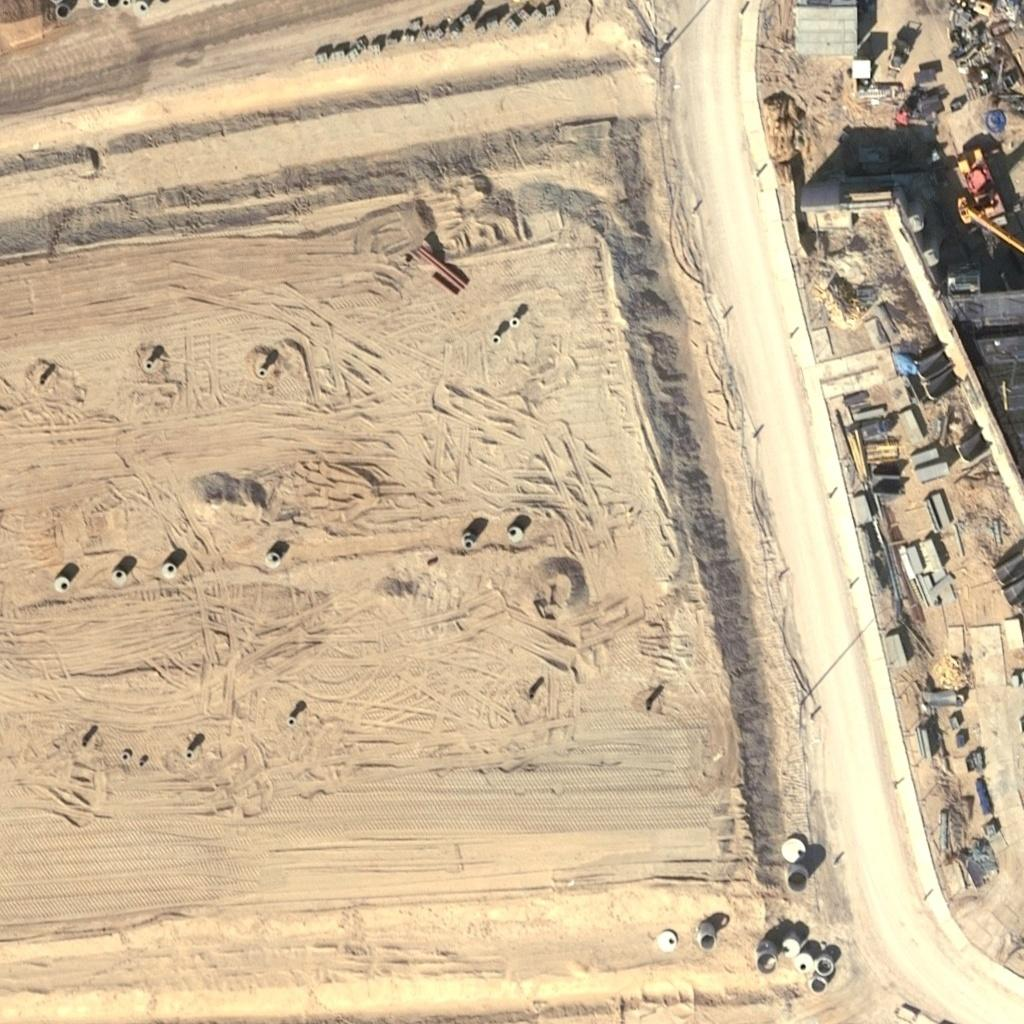zuraw_wiezowy: (945, 145, 1024, 261)
